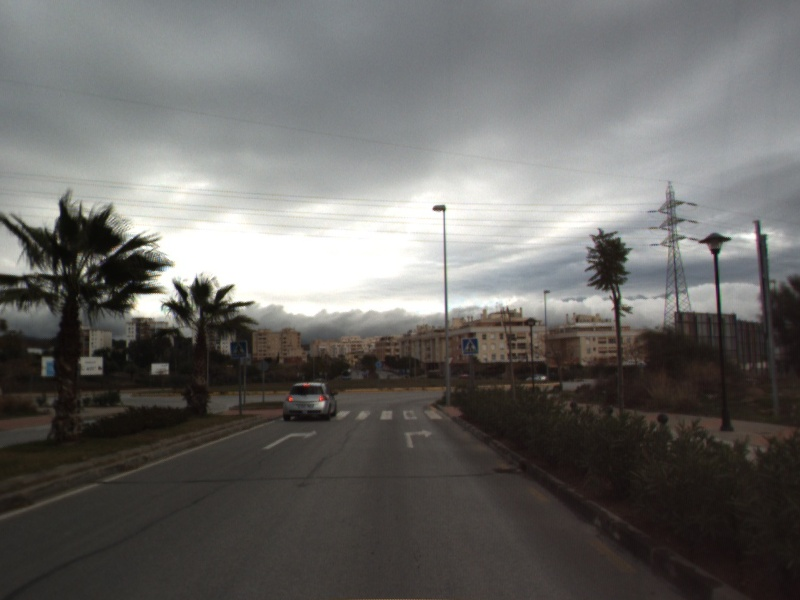RIGHT: (261, 427, 319, 452), (403, 427, 435, 450)
